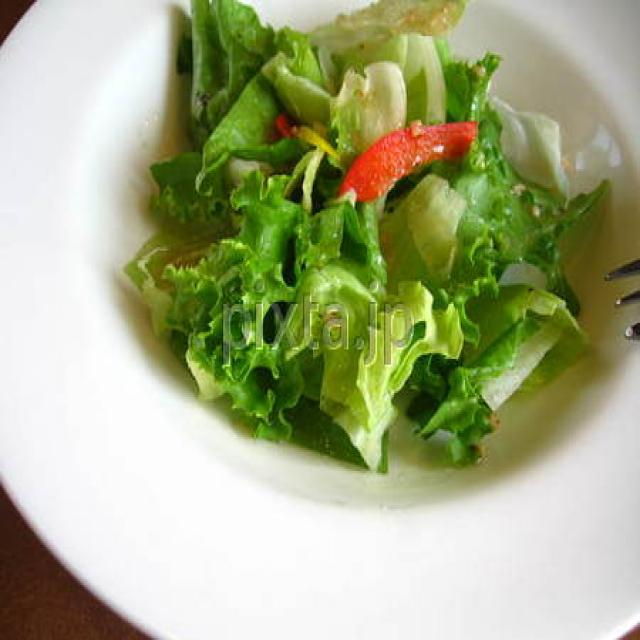蔬菜料理: (3, 0, 631, 627)
